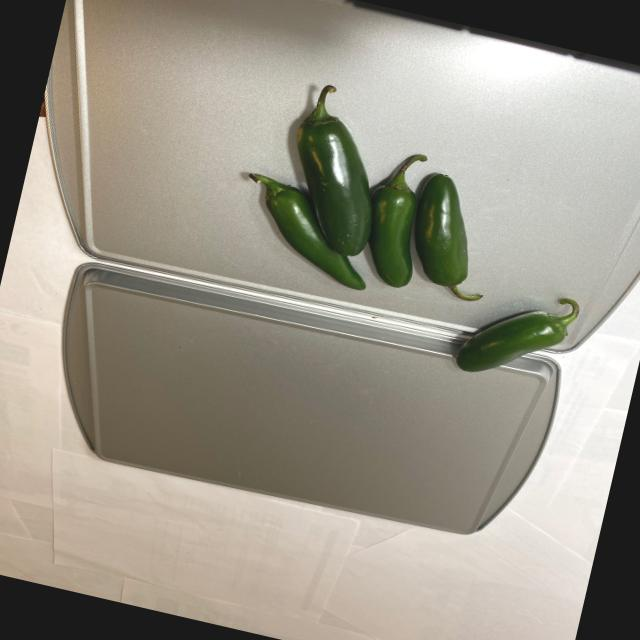chilli: (205, 64, 621, 390)
